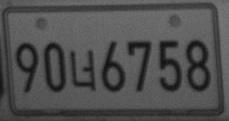0: (43, 41, 66, 92)
5: (158, 39, 182, 91)
6: (101, 40, 126, 93)
7: (126, 40, 151, 92)
8: (185, 38, 211, 91)
9: (14, 41, 39, 92)
너: (69, 50, 97, 91)
